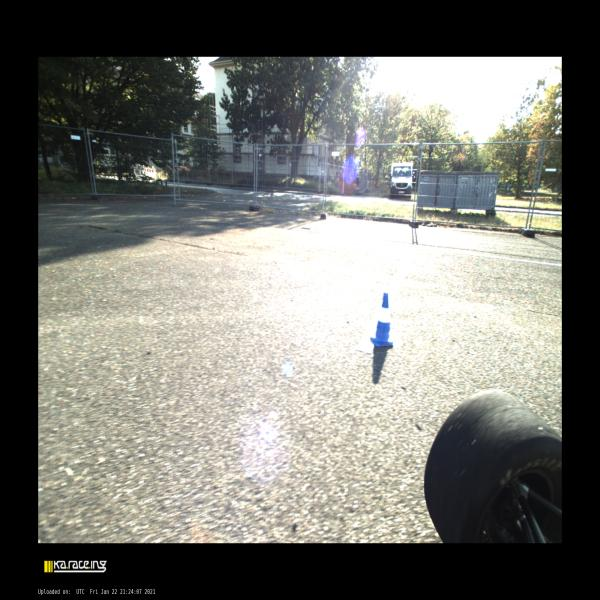blue_cone: (370, 292, 393, 346)
